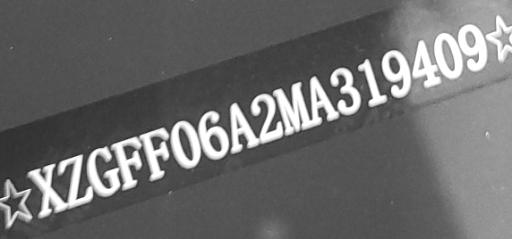letter: (28, 162, 68, 217), (274, 79, 312, 134), (58, 154, 92, 208), (86, 142, 118, 198), (140, 125, 170, 184), (196, 110, 230, 161), (226, 100, 258, 153), (112, 134, 142, 190), (308, 73, 338, 126), (251, 94, 283, 143), (381, 47, 411, 99), (330, 64, 360, 115), (170, 118, 200, 169), (458, 21, 488, 72), (358, 56, 388, 107), (412, 36, 440, 87), (435, 32, 463, 80)
